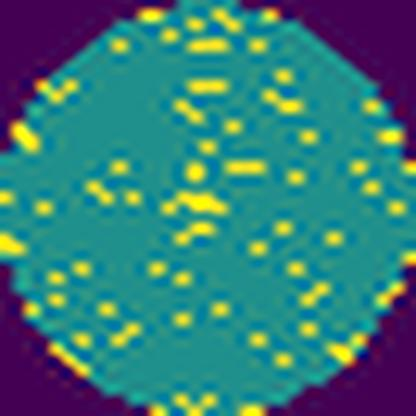Center: (158, 180, 238, 254)
